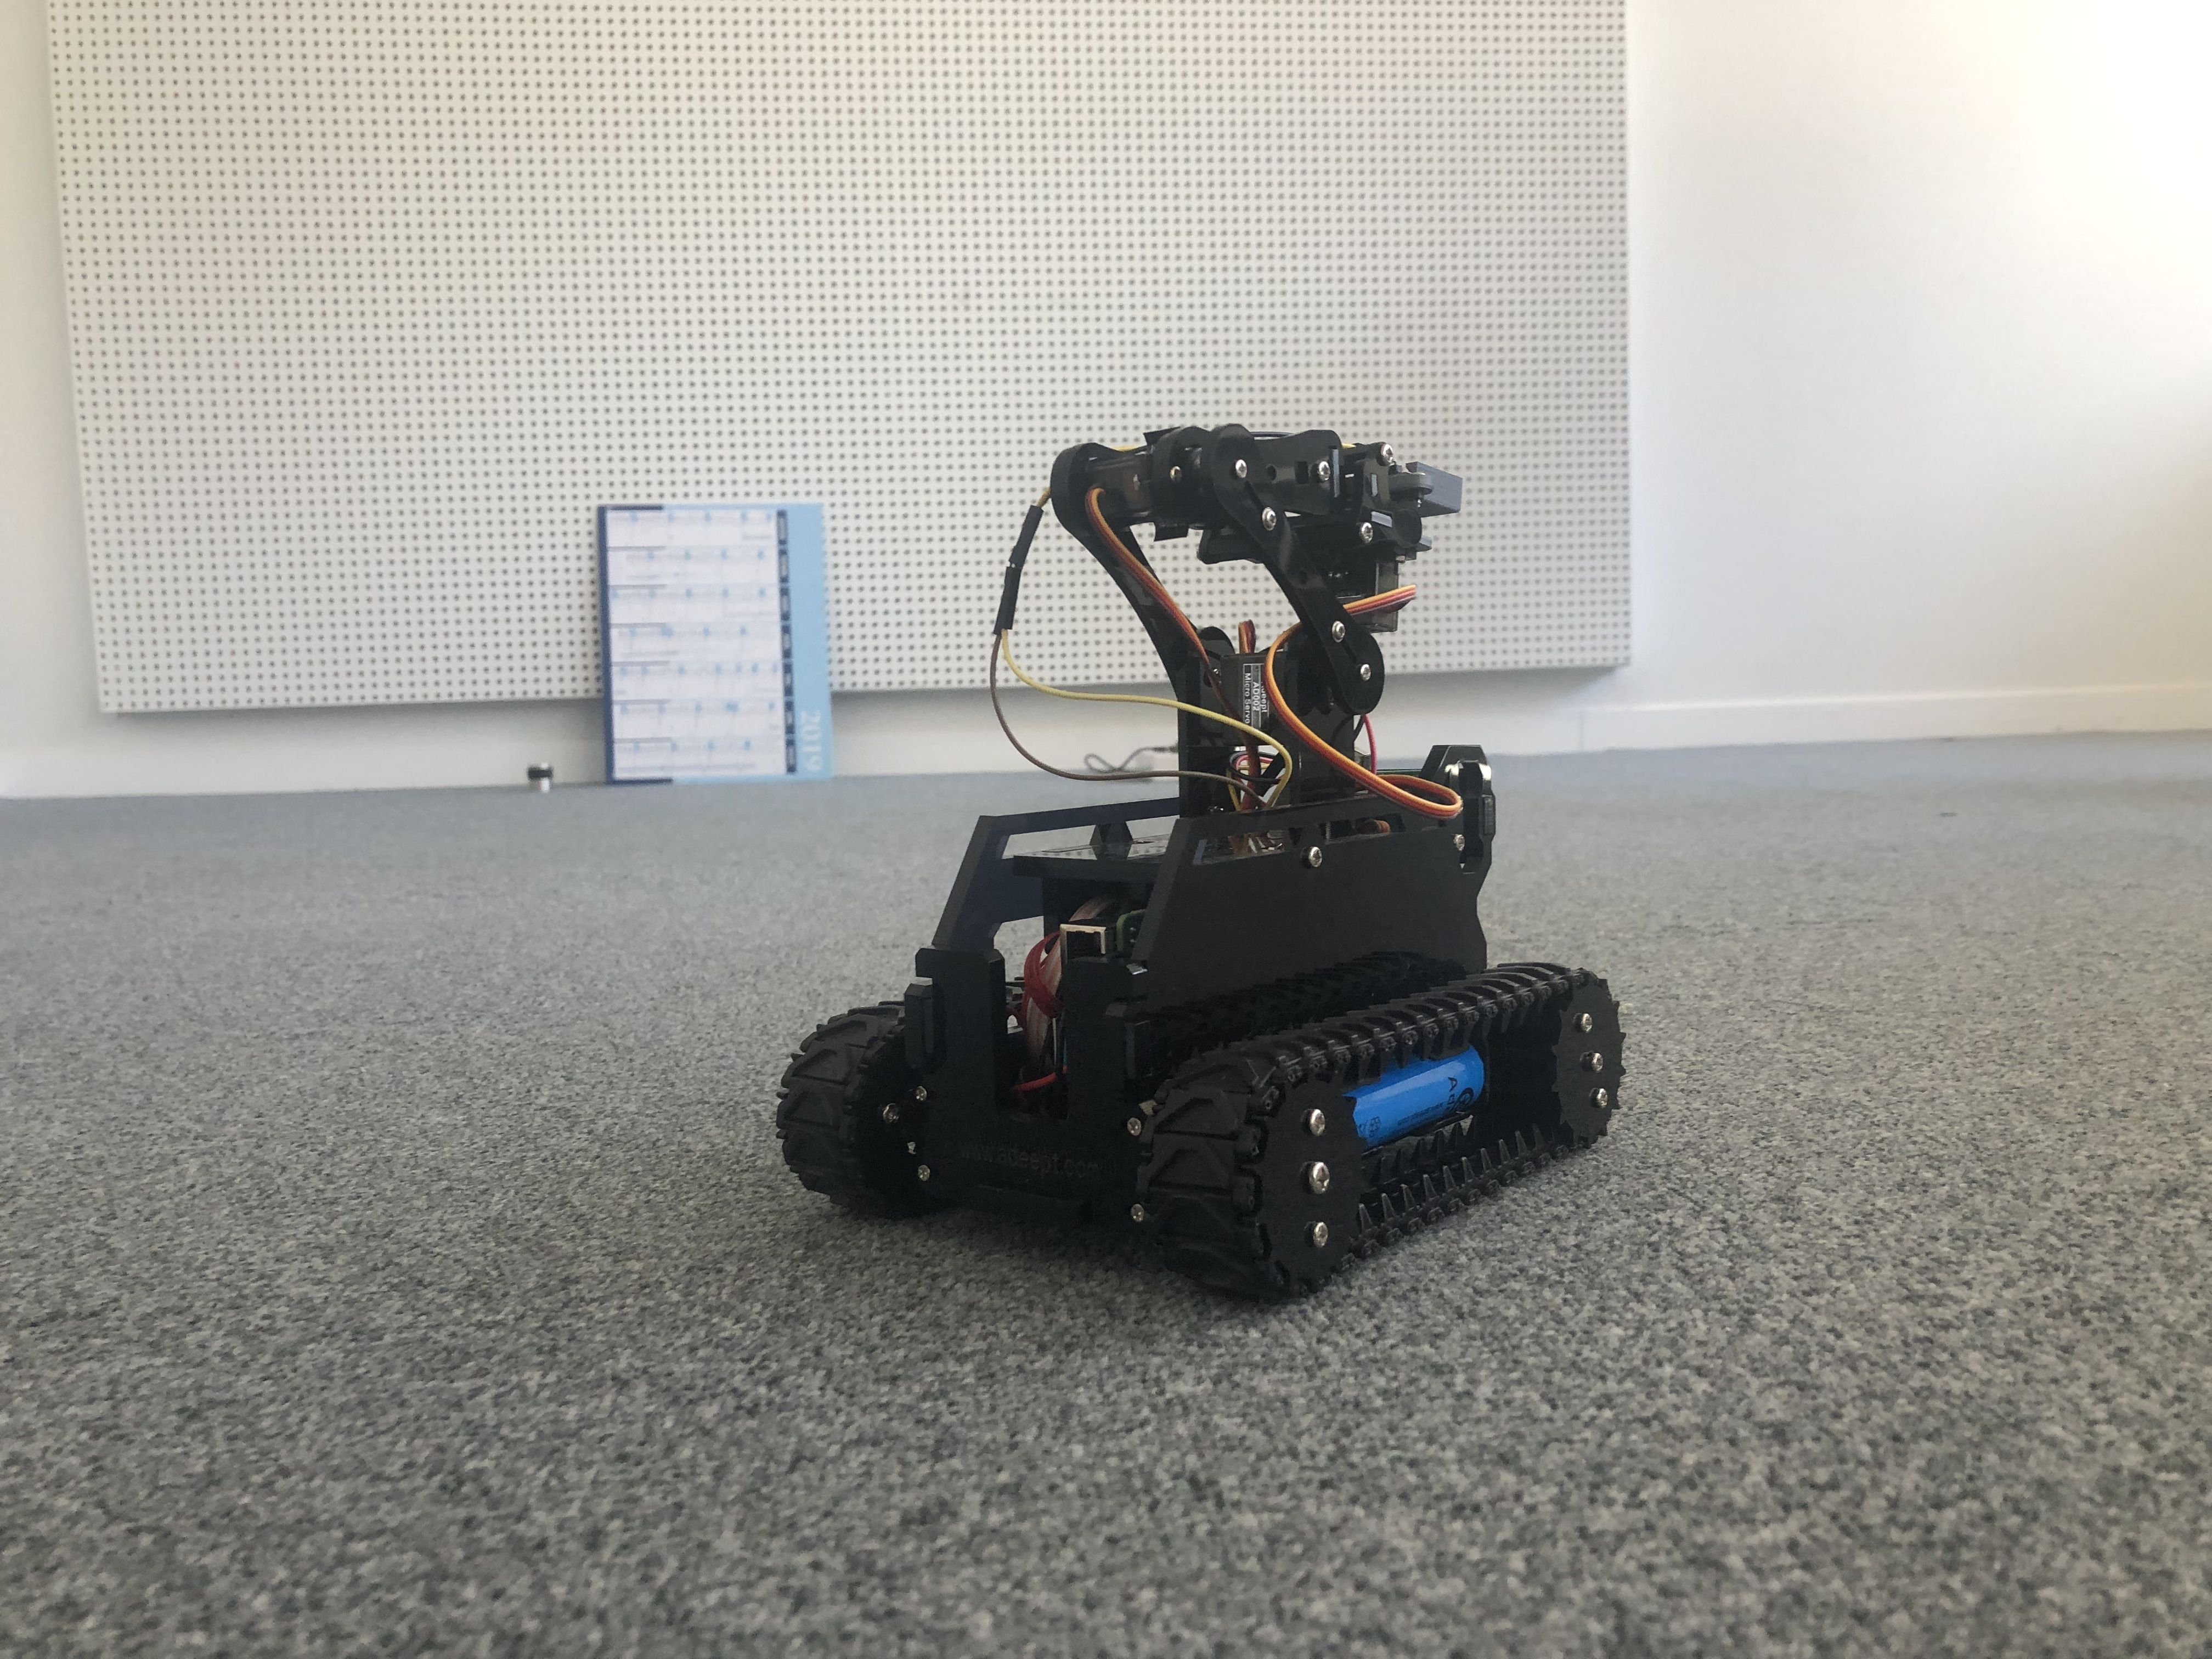rasptank: (768, 411, 1637, 1316)
